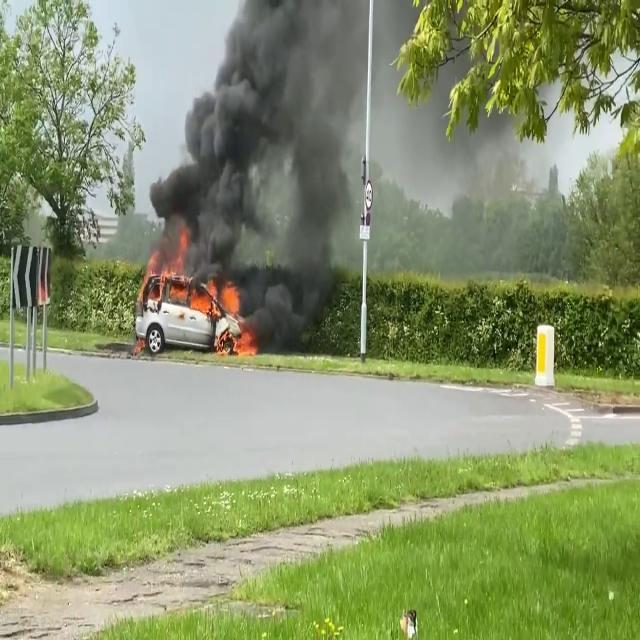Fire: (141, 230, 217, 313), (208, 276, 258, 354)
Smoke: (146, 1, 386, 303)
